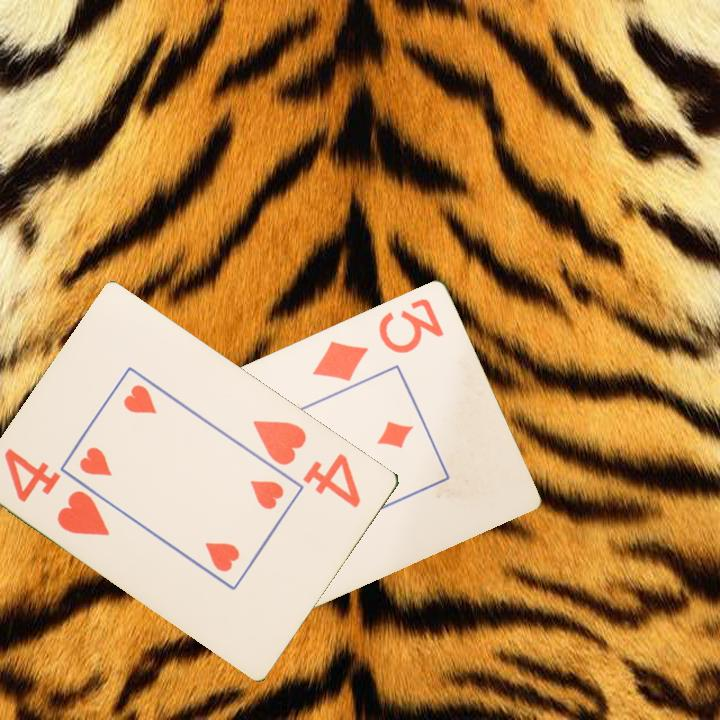3d: (309, 294, 447, 384)
4h: (250, 416, 365, 511), (1, 444, 113, 539)
